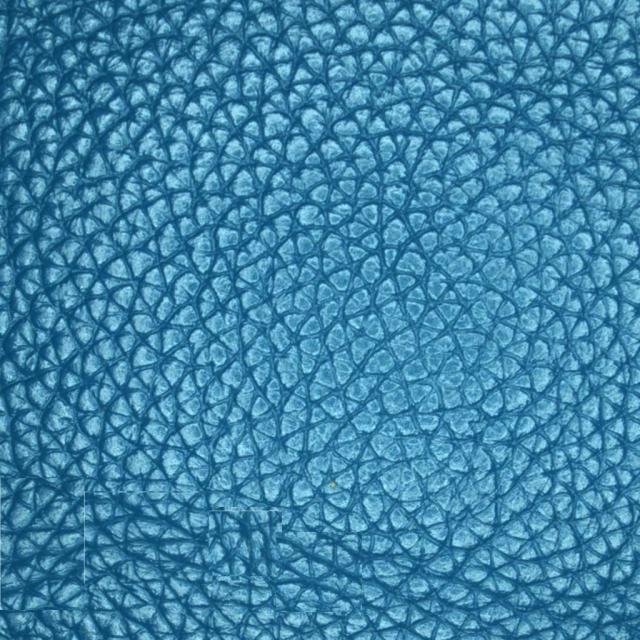Healed Injury: (37, 388, 198, 594), (232, 440, 412, 604)
